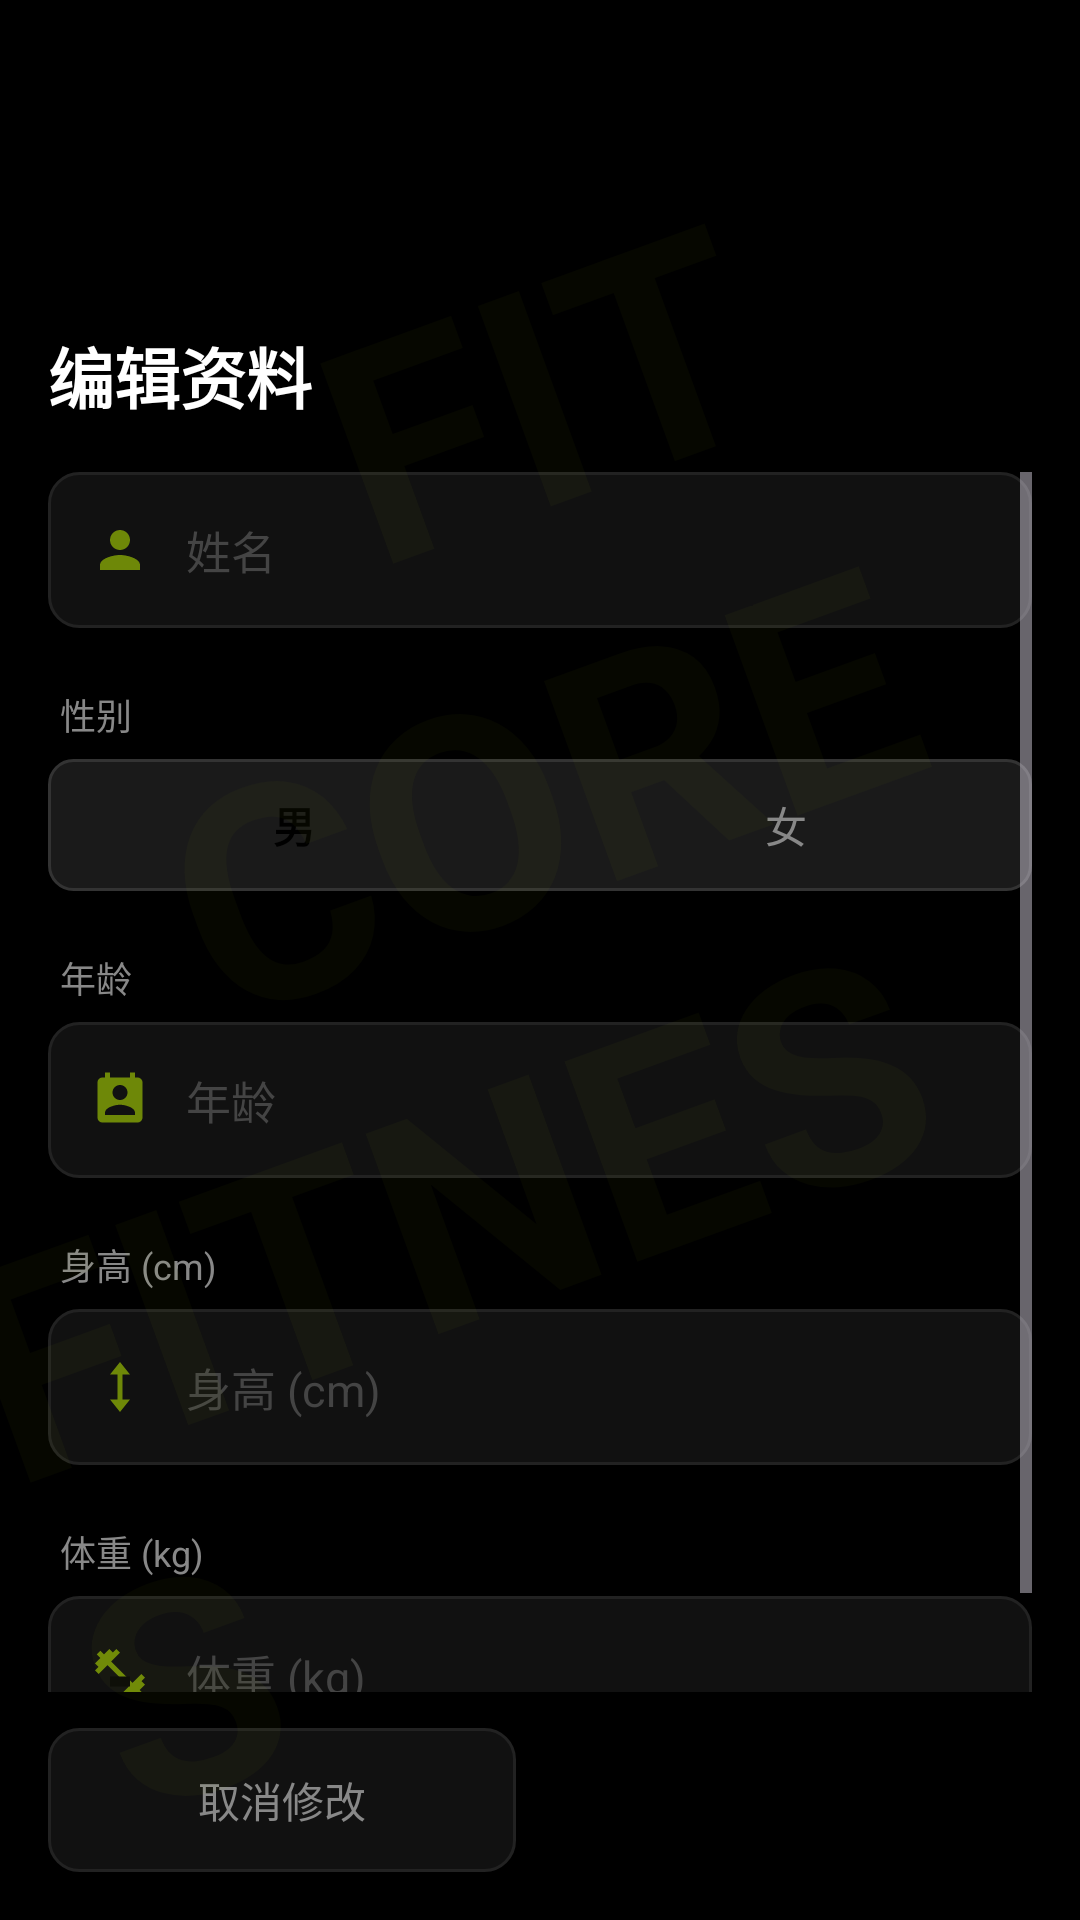

Screen size 1080px x 1920px. Icon name, then its center in pixels as [x,y]:
age: [120,1097]
height: [120,1387]
